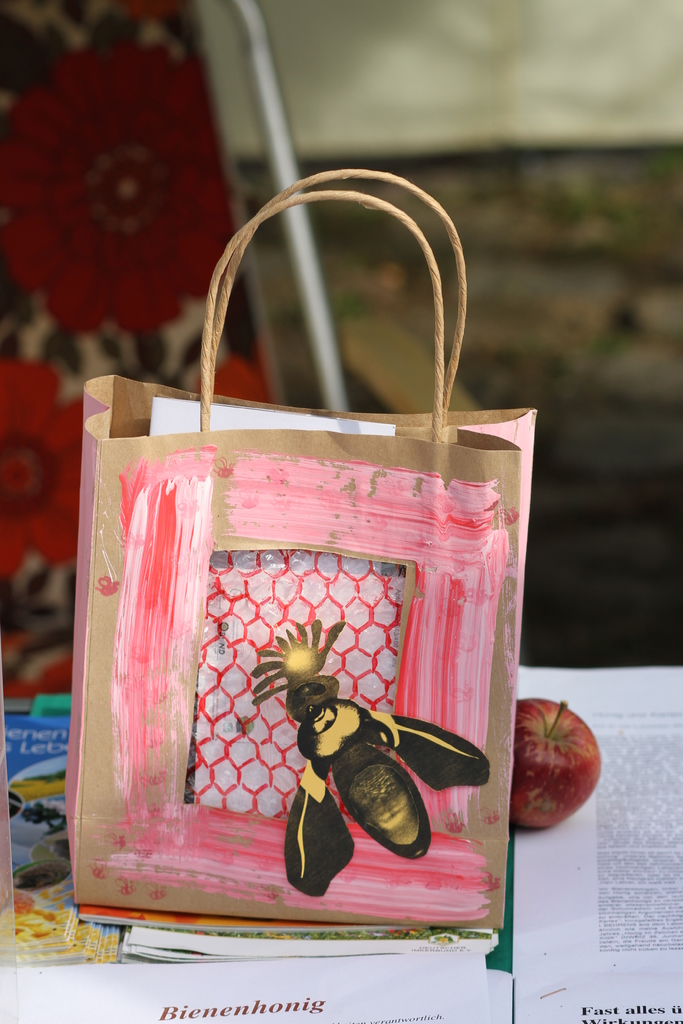Apple: (520, 710, 609, 842)
